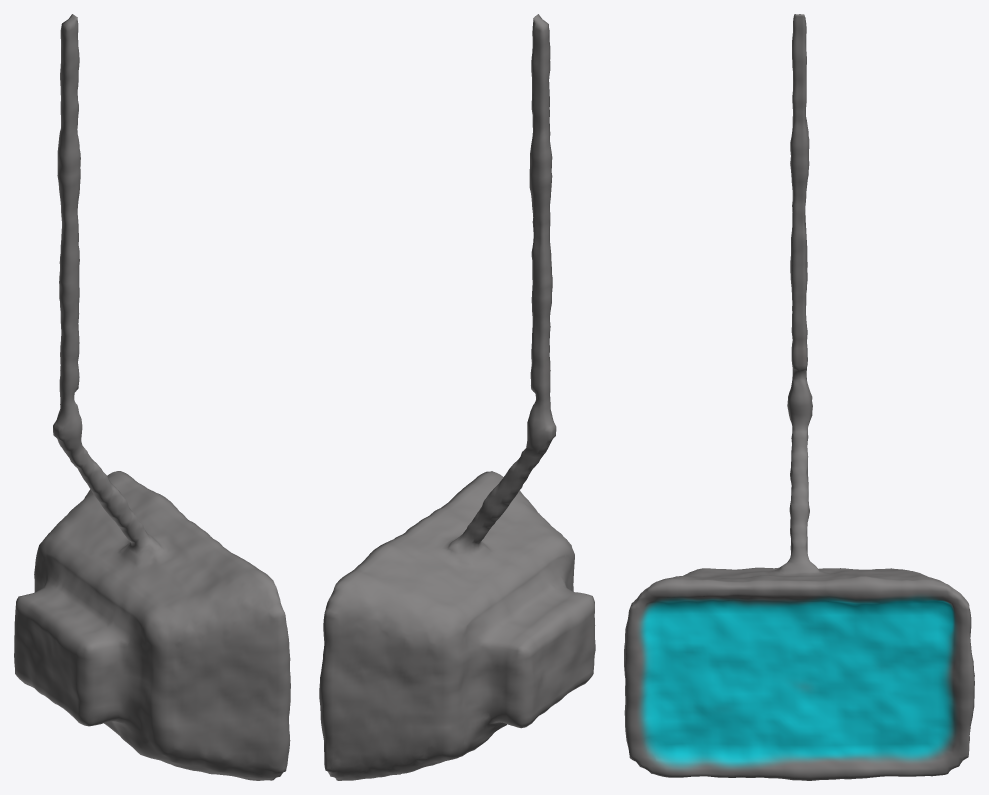
The model's file is SecondTV.glb.
The picture shows the model from 3 angles, left to right: view 1: azimuth 30°, elevation 25°; view 2: azimuth 150°, elevation 25°; view 3: azimuth 270°, elevation 25°; orthographic projection. The views are drawn at different scales.
Parts seen in each view (by area): view 1: FirstTV.001; view 2: FirstTV.001; view 3: FirstTV.001.
Part boxes in pixels (bbox=[...]): FirstTV.001: bbox=[14, 14, 290, 780]; FirstTV.001: bbox=[319, 14, 595, 780]; FirstTV.001: bbox=[624, 14, 974, 780].
Bounding box in the file's own units: 2.2 × 9.98 × 4.46.
Materials: 1 (1 with a texture image).
